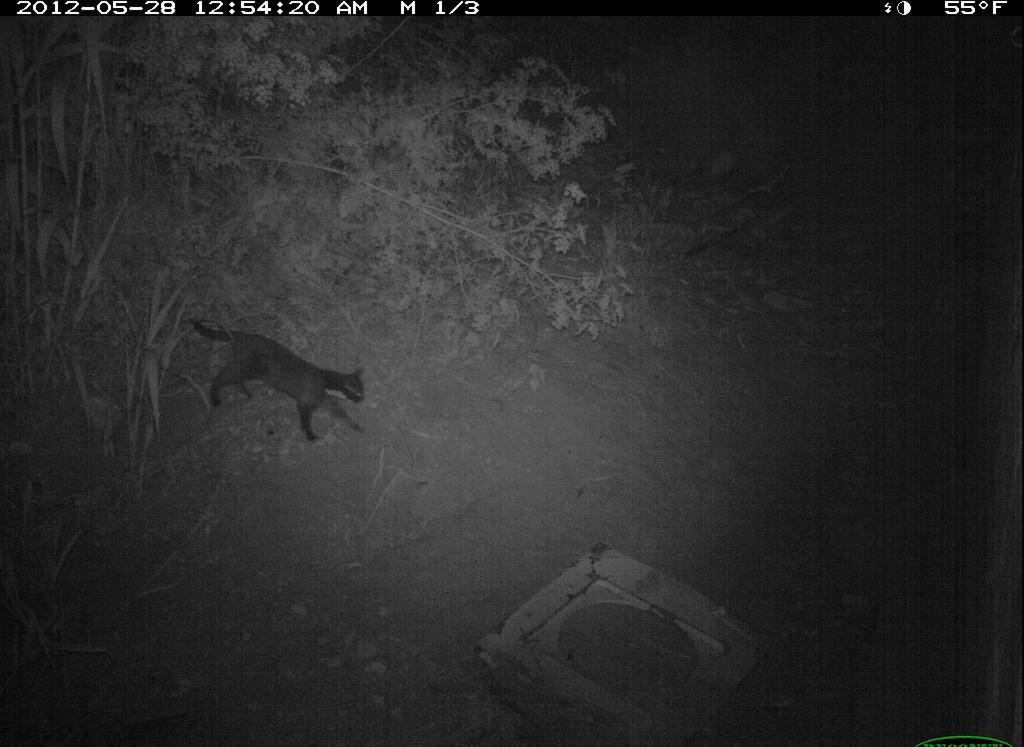cat: (185, 313, 372, 447)
